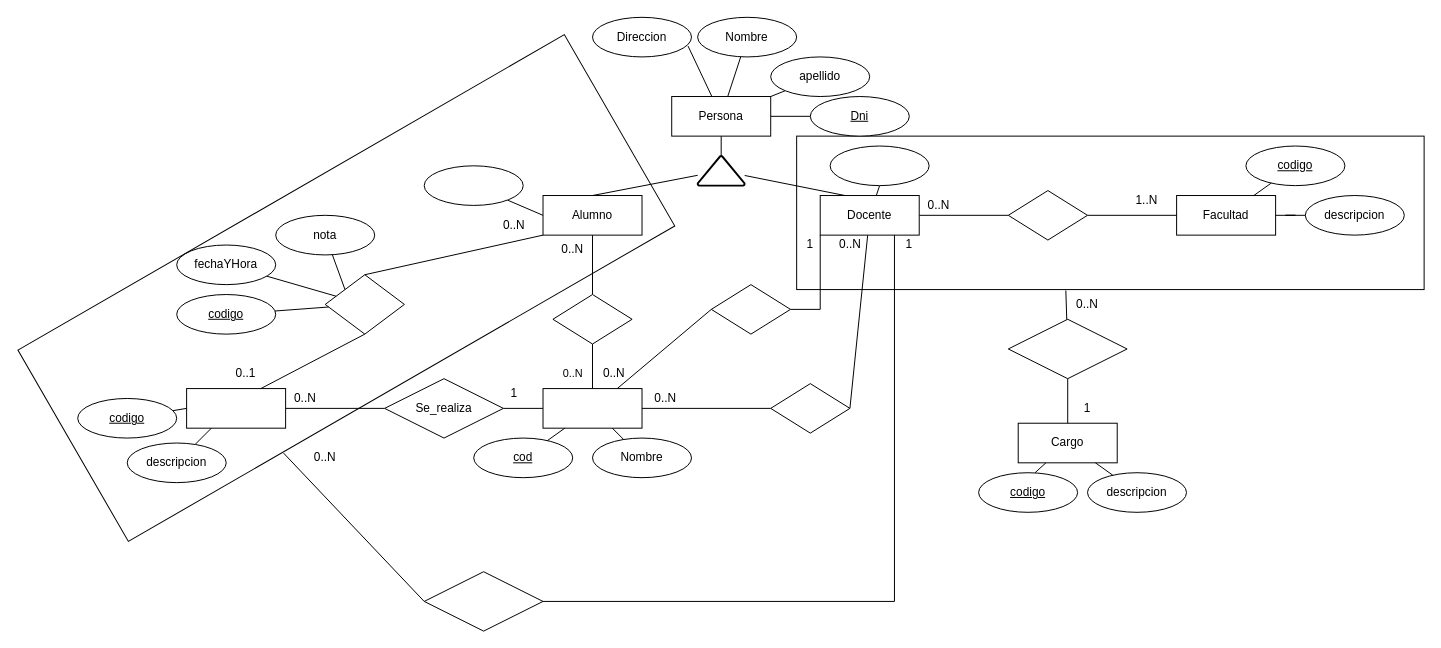
This 1441x648 diagram has some shape labels left out. Here are the shapes that lost their labels. From the top down, the centre of each, then its label:
the point at 473,185: nro_alumno
the point at 879,165: dedicacion
the point at 1047,215: Pertenece
the point at 364,304: Resolucion
the point at 592,319: Cursa
the point at 750,309: Responsable
the point at 1067,348: Tiene
the point at 236,408: Actividad
the point at 592,408: Materia
the point at 810,408: Equipo
the point at 483,601: Corrige
